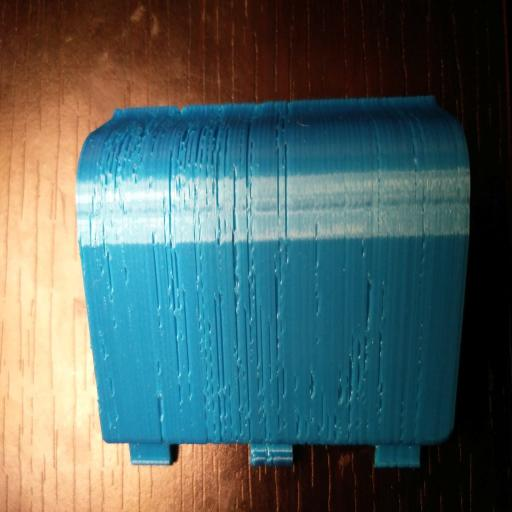cracks: (170, 126, 261, 381), (310, 257, 390, 448), (97, 146, 146, 341)
